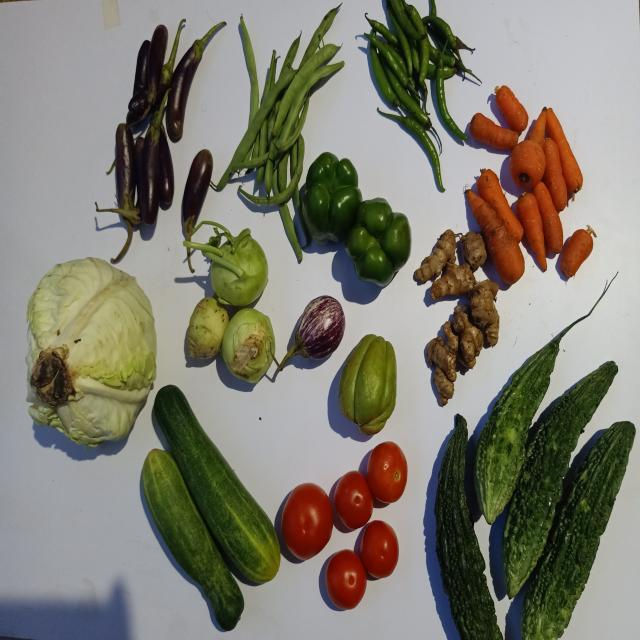Beans: (215, 67, 298, 189), (273, 42, 341, 134), (277, 64, 337, 147), (238, 134, 304, 205), (240, 14, 259, 123)
Bitter Gourd: (503, 361, 619, 599), (522, 421, 637, 640), (475, 334, 562, 525), (435, 414, 503, 640)
Brinjal: (166, 20, 226, 138), (140, 92, 167, 224), (182, 148, 212, 240), (114, 122, 135, 207), (147, 23, 168, 105)
Cabbage: (25, 257, 156, 449)
Capsicum: (342, 196, 415, 290), (302, 151, 362, 243)
Carrot: (467, 189, 525, 284), (477, 168, 525, 243), (547, 107, 584, 192), (510, 106, 548, 188), (517, 192, 548, 270), (534, 180, 564, 253), (543, 137, 568, 212), (470, 112, 520, 149), (561, 228, 594, 278), (496, 84, 529, 133)
Chayote: (339, 334, 397, 435)
Cucumber: (153, 385, 280, 583), (142, 449, 244, 631)
Eggplant: (278, 295, 345, 371)
Ginger: (415, 229, 457, 282), (469, 279, 500, 346), (453, 310, 484, 368), (431, 262, 477, 300), (427, 336, 457, 381), (461, 231, 488, 272), (433, 366, 455, 406), (444, 320, 459, 354)
Green Chilly: (378, 107, 445, 191), (364, 32, 417, 92), (385, 65, 432, 127), (437, 55, 468, 140), (406, 3, 431, 88), (370, 41, 400, 105), (388, 6, 413, 75), (365, 11, 399, 46)
Tomato: (282, 483, 333, 561), (367, 442, 408, 503), (326, 550, 367, 610), (335, 471, 373, 530), (361, 521, 399, 578)
Turnip: (183, 220, 268, 305), (221, 308, 275, 383), (187, 297, 228, 358)
